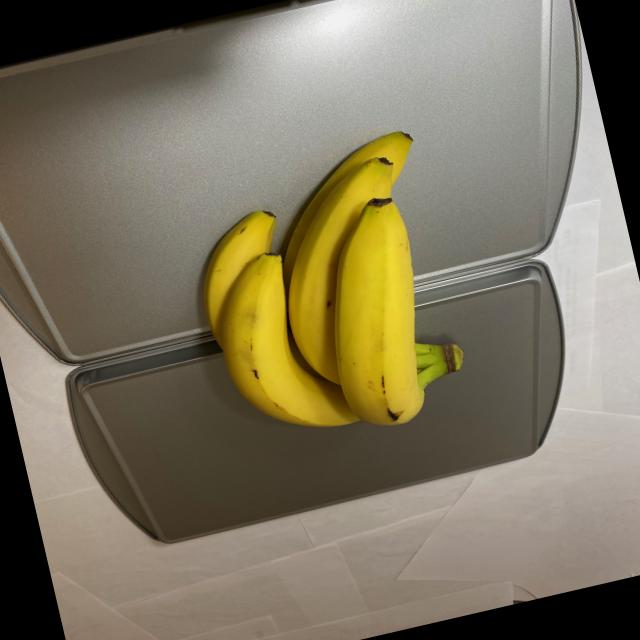banana: (168, 118, 482, 464)
